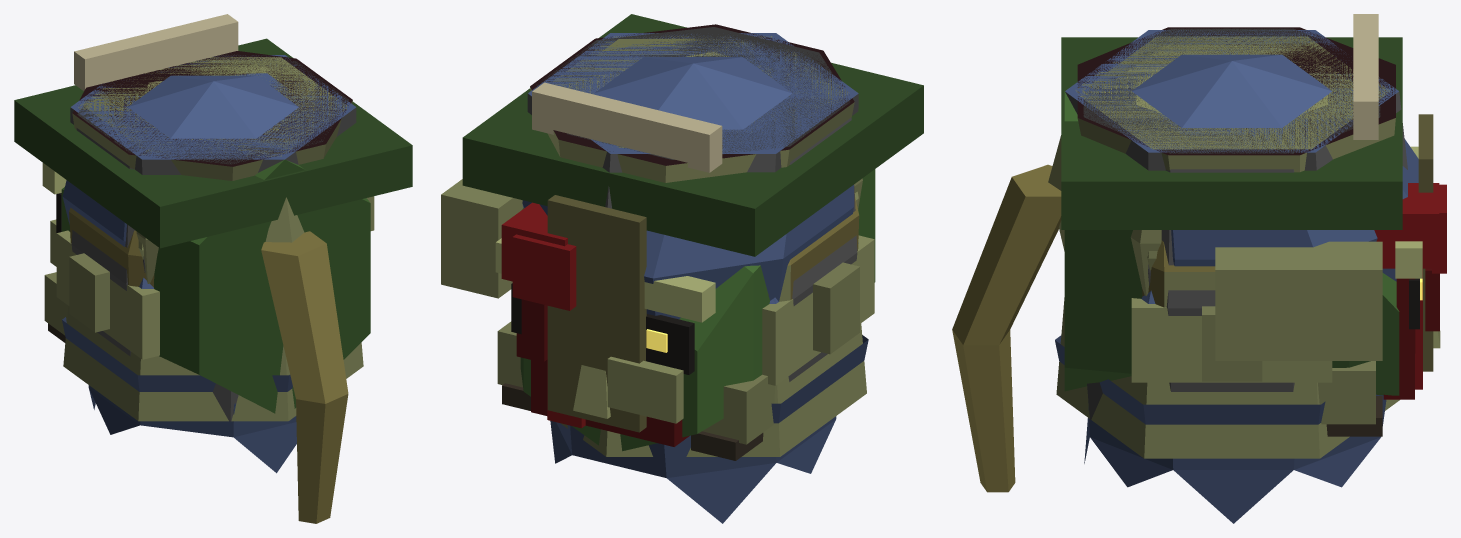
The model's file is runner.glb.
3 renders of one model, left to right at view 1: azimuth 30°, elevation 25°; view 2: azimuth 150°, elevation 25°; view 3: azimuth 270°, elevation 25°, orthographic. The views are drawn at different scales.
Visible parts, largest first — view 1: hips, footR, head, headJaw, uArmR, neck, uArmDeltR, torso, shinR, handR, fArmR, thighR (+1 smaller); view 2: torso, hips, handR, headJaw, uArmR, head, footR, uArmDeltR, neck, fArmR, torsoBelly, shinR (+1 smaller); view 3: hips, handR, head, torso, headJaw, uArmR, footR, neck, uArmDeltR, shinR, fArmR, torsoBelly (+1 smaller).
Part boxes in pixels (box(x1,y1,x2,y2)): hips: box(14, 38, 412, 421); footR: box(61, 159, 370, 413); head: box(42, 163, 348, 523); headJaw: box(72, 14, 352, 180); uArmR: box(62, 55, 355, 391); neck: box(63, 306, 363, 421); uArmDeltR: box(128, 75, 298, 138); torso: box(50, 81, 296, 473); shinR: box(78, 57, 346, 283); handR: box(44, 66, 374, 359); fArmR: box(85, 60, 331, 259); thighR: box(70, 107, 356, 272); torso: box(512, 52, 853, 523); hips: box(462, 14, 923, 381); handR: box(441, 53, 874, 460); headJaw: box(530, 24, 854, 428); uArmR: box(528, 33, 868, 423); head: box(495, 197, 859, 418); footR: box(520, 169, 875, 451); uArmDeltR: box(594, 57, 792, 303); neck: box(560, 323, 866, 456); fArmR: box(531, 39, 858, 446); torsoBelly: box(501, 202, 567, 281); shinR: box(553, 36, 862, 209); hips: box(1061, 28, 1402, 419); handR: box(1099, 45, 1382, 436); head: box(952, 146, 1440, 492); torso: box(1084, 73, 1446, 523); headJaw: box(1077, 14, 1422, 389); uArmR: box(1055, 30, 1398, 424); footR: box(1064, 91, 1399, 395); neck: box(1056, 297, 1399, 458); uArmDeltR: box(1132, 54, 1332, 303); shinR: box(1048, 33, 1389, 295); fArmR: box(1082, 36, 1414, 399); torsoBelly: box(1374, 183, 1439, 268).
Size of the model in its own units: 1.15 by 1.41 by 1.48.
